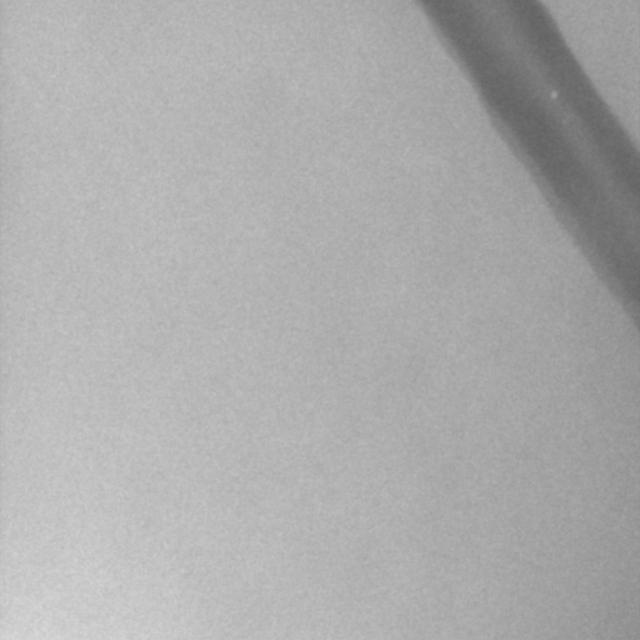air hole: (547, 89, 559, 99)
